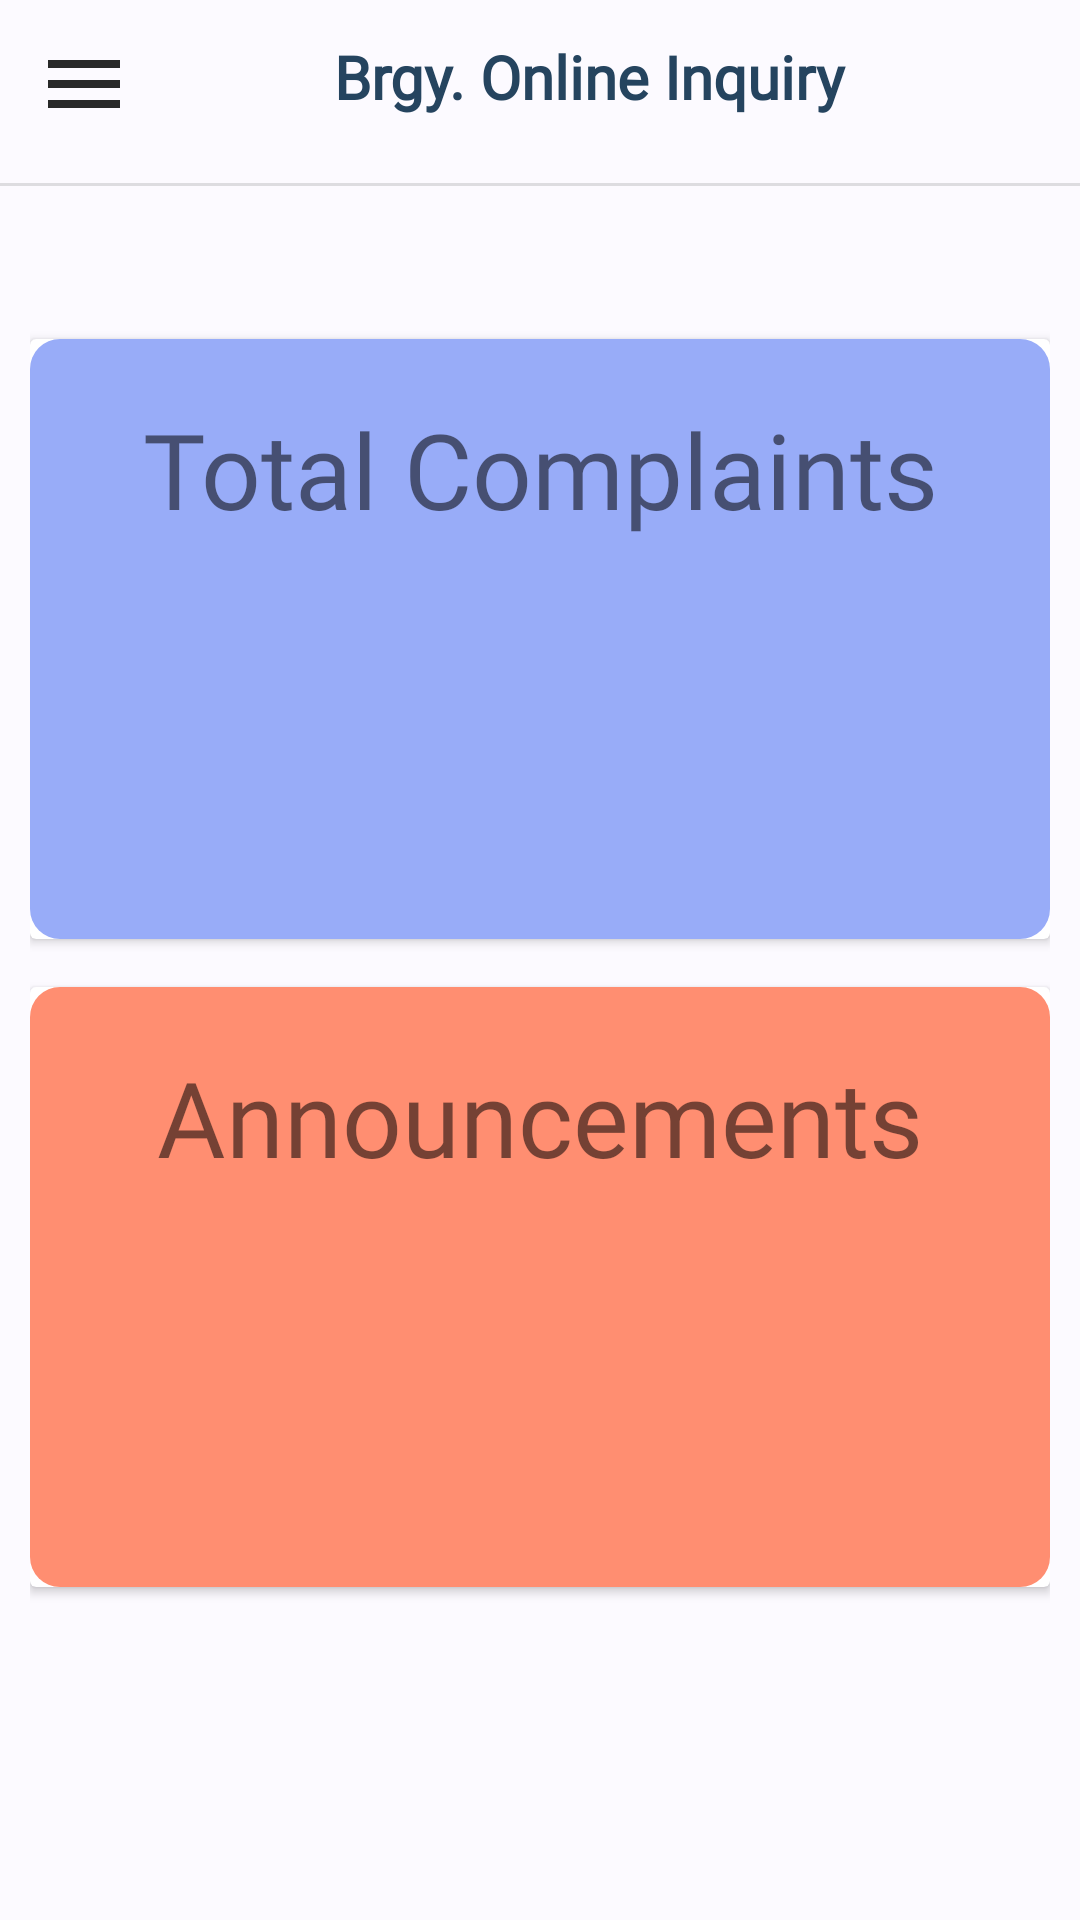

Locate icon controls on the screen. Image size 1080w x 1920h, boxes as (x1, y1, x2, y2).
menu: (48, 60, 120, 108)
